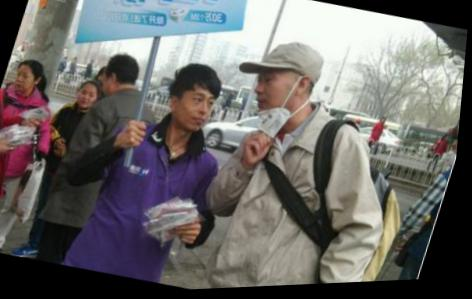NONE: (178, 87, 221, 136), (13, 68, 38, 93), (77, 85, 101, 111)
OK: (445, 146, 461, 173)
WRONG: (244, 67, 316, 140)
